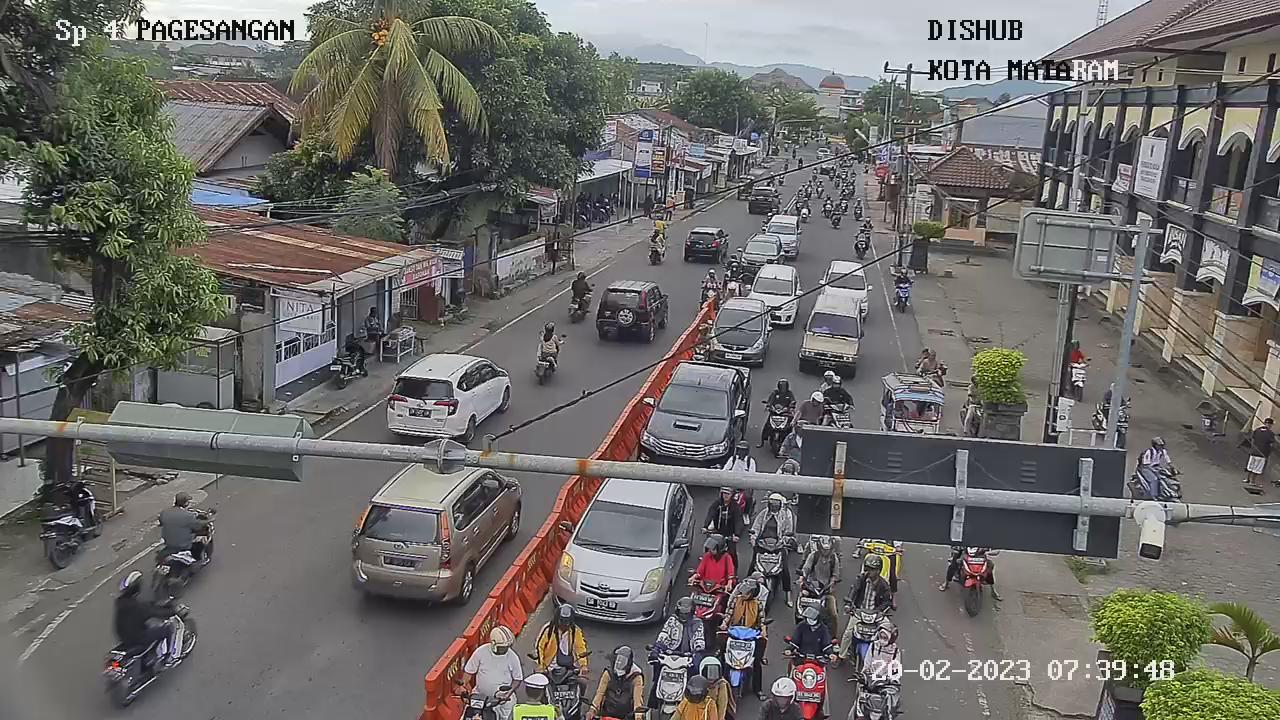car: (345, 463, 526, 607), (553, 478, 697, 628), (638, 360, 752, 465), (385, 353, 512, 446), (798, 291, 863, 373), (592, 280, 666, 345), (707, 297, 771, 366), (750, 263, 801, 319), (821, 256, 868, 309), (681, 226, 731, 264), (763, 214, 801, 259), (743, 235, 784, 273), (746, 182, 784, 220)
cidomo: (872, 371, 949, 450)
motorcycle: (777, 634, 837, 720), (639, 637, 699, 720), (712, 620, 771, 693), (535, 652, 592, 720), (841, 602, 894, 668), (953, 544, 999, 618), (744, 527, 791, 591), (783, 572, 838, 626), (845, 669, 902, 720), (684, 566, 728, 628), (759, 399, 794, 458), (1153, 463, 1185, 507), (1065, 358, 1096, 403), (823, 399, 855, 433), (891, 281, 914, 313), (721, 273, 746, 300), (698, 279, 721, 304), (851, 238, 871, 262), (829, 209, 843, 230), (799, 205, 811, 224)
person: (582, 639, 648, 720), (461, 620, 524, 701), (99, 563, 164, 641), (530, 601, 590, 671), (153, 494, 210, 566), (648, 593, 708, 659), (669, 657, 728, 720), (783, 598, 837, 664), (845, 554, 897, 618), (857, 622, 904, 689), (720, 577, 769, 640), (748, 488, 796, 552), (794, 532, 843, 592), (690, 532, 736, 588), (702, 478, 744, 535), (754, 670, 798, 720), (1138, 434, 1173, 471), (721, 440, 755, 476), (797, 391, 828, 430), (340, 334, 368, 377), (762, 376, 796, 410), (823, 370, 854, 407), (533, 322, 562, 356), (913, 345, 942, 376), (568, 271, 594, 300), (644, 226, 667, 252), (892, 266, 914, 288), (700, 266, 721, 289), (724, 262, 743, 284), (854, 225, 870, 243)
